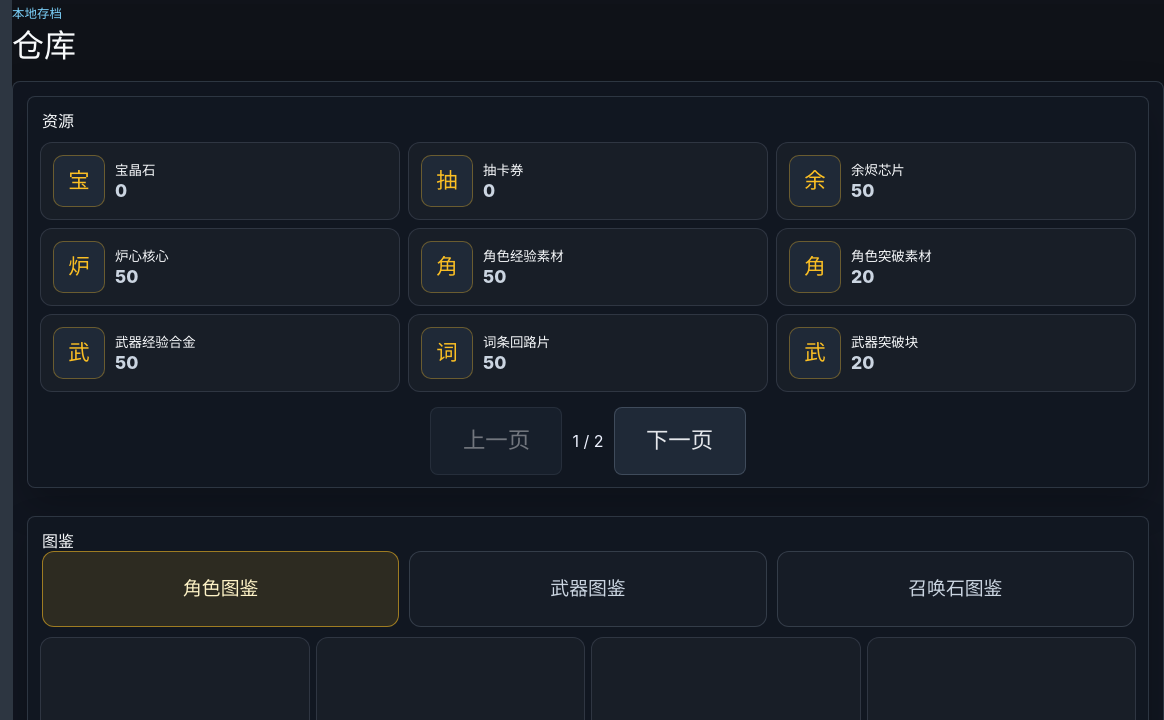
it: inventory screen › shows resource cards with icon plus name and quantity and pages after three rows
Expected: the button with test id "inventory-resource-card-crystal" shows "宝晶石", [40, 142, 400, 220]
Expected: the button with test id "inventory-resource-card-crystal" shows "0", [40, 142, 400, 220]
Click the button with test id "inventory-resource-next". click: (680, 441)
box: [614, 407, 746, 475]
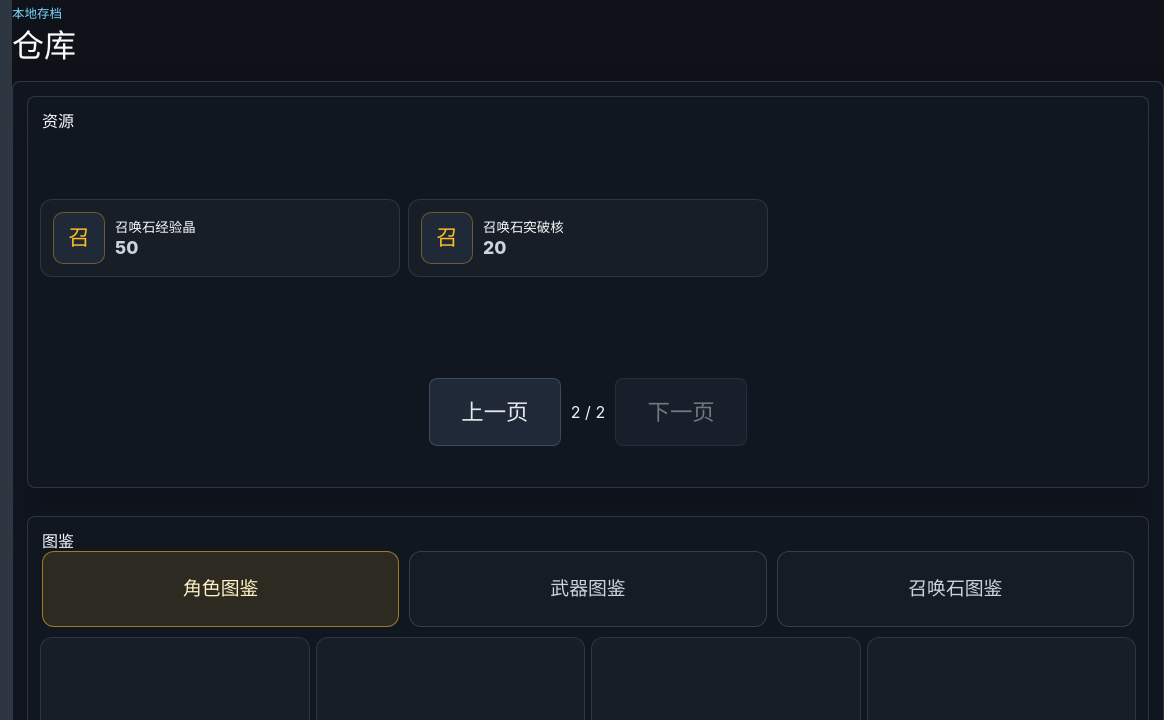
Expected: the text with test id "inventory-resource-page-indicator" reads "2 / 2", [571, 402, 605, 422]
Expected: the button with test id "inventory-resource-card-fire-summon-uncap" is shown, [408, 199, 768, 277]
